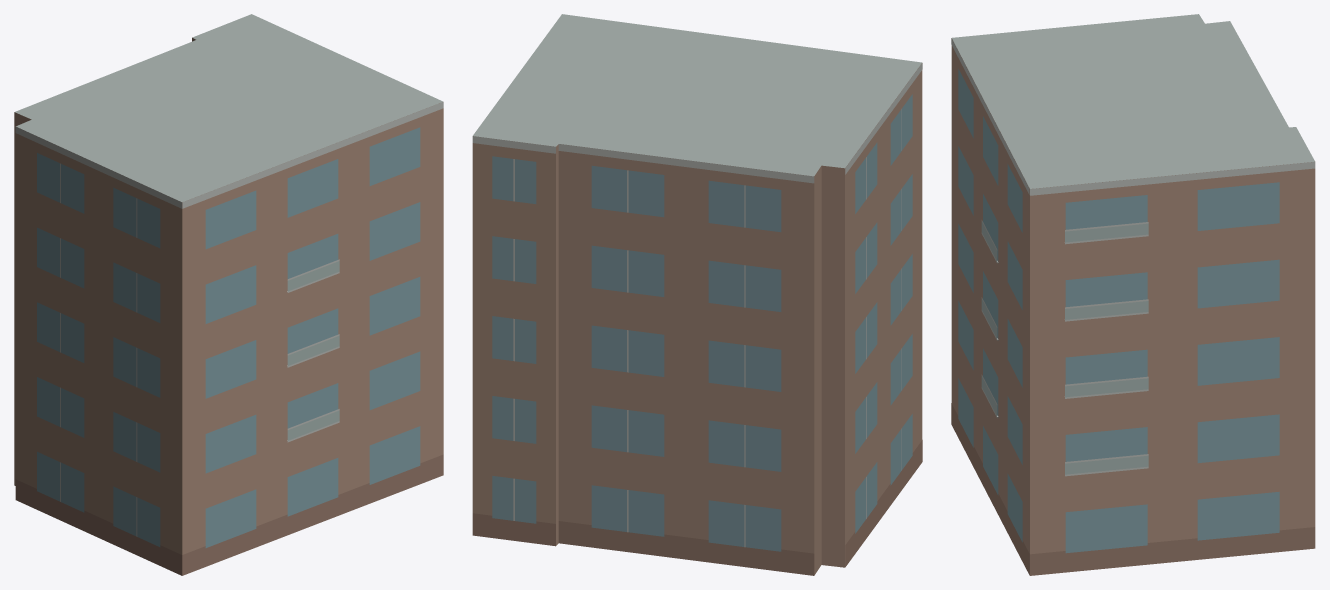
The model's file is survey-upis-32904843.glb.
3 renders of one model, left to right at view 1: azimuth 30°, elevation 25°; view 2: azimuth 150°, elevation 25°; view 3: azimuth 270°, elevation 25°, orthographic. The views are drawn at different scales.
Parts seen in each view (by area): view 1: survey-upis-32904843.tmp; view 2: survey-upis-32904843.tmp; view 3: survey-upis-32904843.tmp.
Part boxes in pixels (left/top/right/bottom): survey-upis-32904843.tmp: left=14, top=14, right=443, bottom=575; survey-upis-32904843.tmp: left=472, top=14, right=922, bottom=575; survey-upis-32904843.tmp: left=951, top=14, right=1315, bottom=575.
Size of the model in its own units: 13.46 by 13.86 by 11.82.
